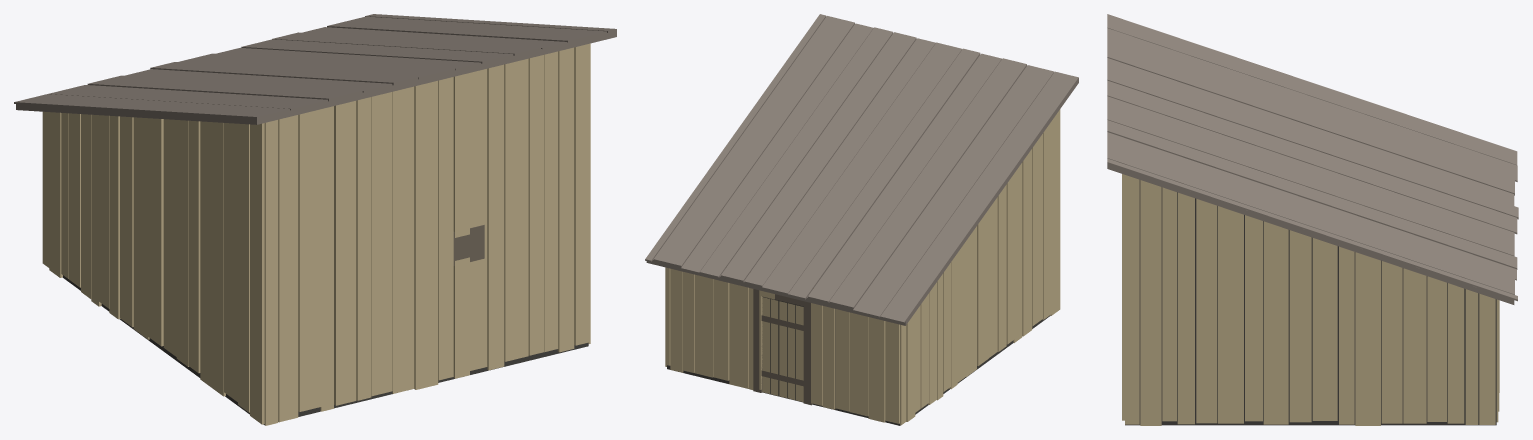
The model's file is recon_1835_blk_randolph_market_d2_09__inferred_1835.glb.
The picture shows the model from 3 angles, left to right: view 1: azimuth 30°, elevation 25°; view 2: azimuth 150°, elevation 25°; view 3: azimuth 270°, elevation 25°; orthographic projection. The views are drawn at different scales.
Parts seen in each view (by area): view 1: recon_1835_blk_randolph_market_d2_09__inferred_1835; view 2: recon_1835_blk_randolph_market_d2_09__inferred_1835; view 3: recon_1835_blk_randolph_market_d2_09__inferred_1835.
Boxes of the visible parts, left/top/right/bottom form: recon_1835_blk_randolph_market_d2_09__inferred_1835: left=14, top=14, right=616, bottom=425; recon_1835_blk_randolph_market_d2_09__inferred_1835: left=645, top=14, right=1078, bottom=425; recon_1835_blk_randolph_market_d2_09__inferred_1835: left=1107, top=14, right=1518, bottom=425.
Size of the model in its own units: 5.25 by 4.48 by 6.15.
